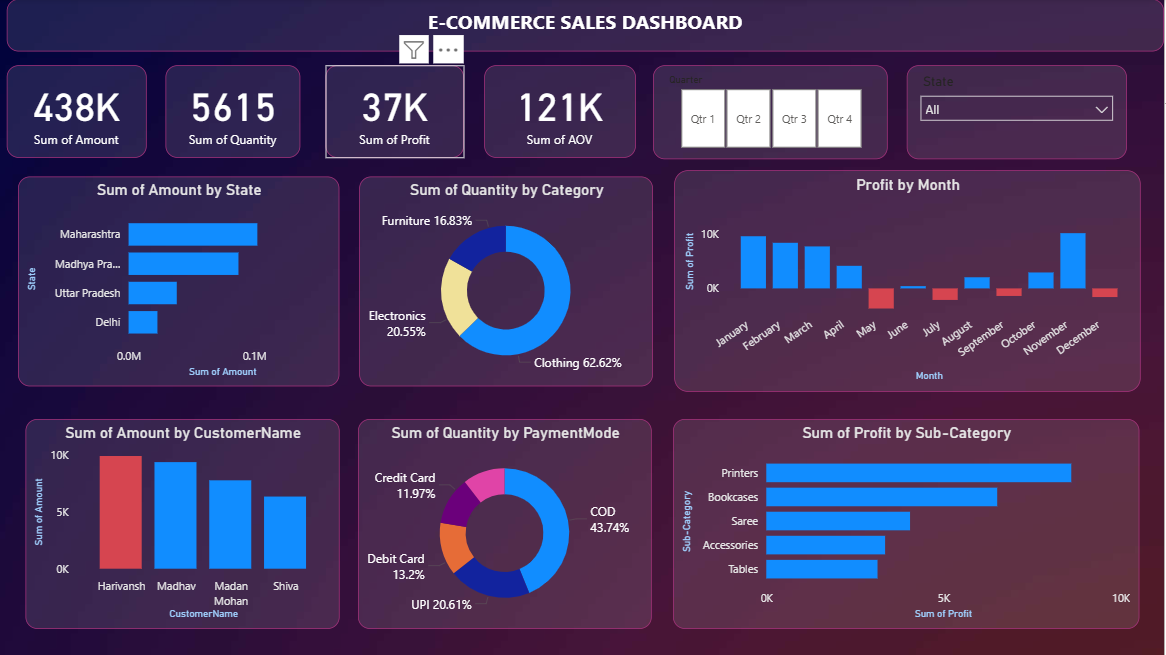

What the dashboard file says about the page in this screenshot:
{"tool":"powerbi","page":{"name":"Page 1","canvas":[1280,720],"ordinal":0},"visuals":[{"type":"textbox","box":[9.6,0,1270.7,57.6],"z":0},{"type":"columnChart","title":"Profit by Month","fields":{"Category":["Orders.Order Date.Variation.Date Hierarchy.Month"],"Y":["Sum(Details.Profit)"]},"box":[742.4,188,511.8,242.9],"z":1},{"type":"barChart","fields":{"Category":["Details.Sub-Category"],"Y":["Sum(Details.Profit)"]},"box":[741,461.1,511.8,230.5],"z":2},{"type":"donutChart","fields":{"Category":["Details.Category"],"Y":["Sum(Details.Quantity)"]},"box":[396.6,194.9,322.5,230.5],"z":3},{"type":"donutChart","fields":{"Category":["Details.PaymentMode"],"Y":["Sum(Details.Quantity)"]},"box":[395.2,461.1,322.5,230.5],"z":4},{"type":"card","fields":{"Values":["Sum(Details.Amount)"]},"box":[9.6,72.7,153.7,101.5],"z":5},{"type":"card","fields":{"Values":["Sum(Details.Quantity)"]},"box":[183.9,72.7,148.2,101.5],"z":6},{"type":"card","fields":{"Values":["Sum(Details.Profit)"]},"box":[359.5,72.7,152.3,101.5],"z":7},{"type":"card","fields":{"Values":["Sum(Details.AOV)"]},"box":[533.8,72.7,166,101.5],"z":8},{"type":"barChart","fields":{"Category":["Orders.State"],"Y":["Sum(Details.Amount)"]},"box":[22,194.9,352.7,230.5],"z":9},{"type":"columnChart","fields":{"Category":["Orders.CustomerName"],"Y":["Sum(Details.Amount)"]},"box":[30.2,461.1,344.4,230.5],"z":10},{"type":"slicer","fields":{"Values":["Orders.Order Date.Variation.Date Hierarchy.Quarter"]},"box":[719,72.7,258,102.9],"z":11},{"type":"slicer","fields":{"Values":["Orders.State"]},"box":[997.6,72.7,241.5,102.9],"z":12}]}

Visuals, with their boxes in screenshot pixels (x1, y1, x2, y2), scaled from the page's 1280x720 canvas onto the 1166x655 screenshot:
textbox: [9, 0, 1165, 52]
"Profit by Month" columnChart: [676, 171, 1142, 392]
barChart - Details.Sub-Category x Sum(Details.Profit): [675, 419, 1141, 629]
donutChart - Details.Category x Sum(Details.Quantity): [361, 177, 655, 387]
donutChart - Details.PaymentMode x Sum(Details.Quantity): [360, 419, 654, 629]
card - Sum(Details.Amount): [9, 66, 149, 158]
card - Sum(Details.Quantity): [168, 66, 303, 158]
card - Sum(Details.Profit): [327, 66, 466, 158]
card - Sum(Details.AOV): [486, 66, 637, 158]
barChart - Orders.State x Sum(Details.Amount): [20, 177, 341, 387]
columnChart - Orders.CustomerName x Sum(Details.Amount): [28, 419, 341, 629]
slicer - Orders.Order Date.Variation.Date Hierarchy.Quarter: [655, 66, 890, 160]
slicer - Orders.State: [909, 66, 1129, 160]
